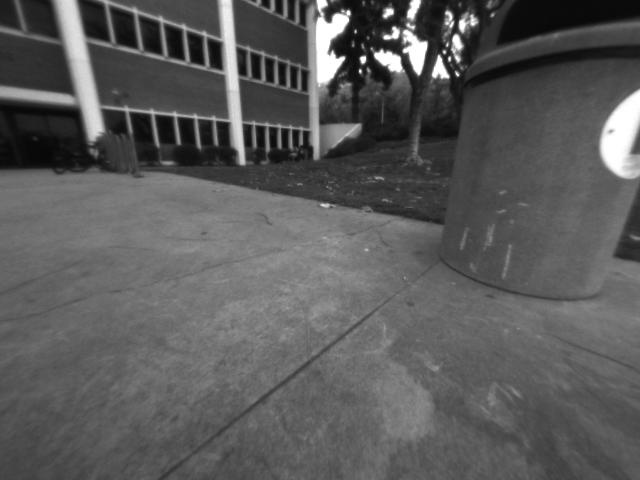trashcan: (443, 1, 638, 305)
